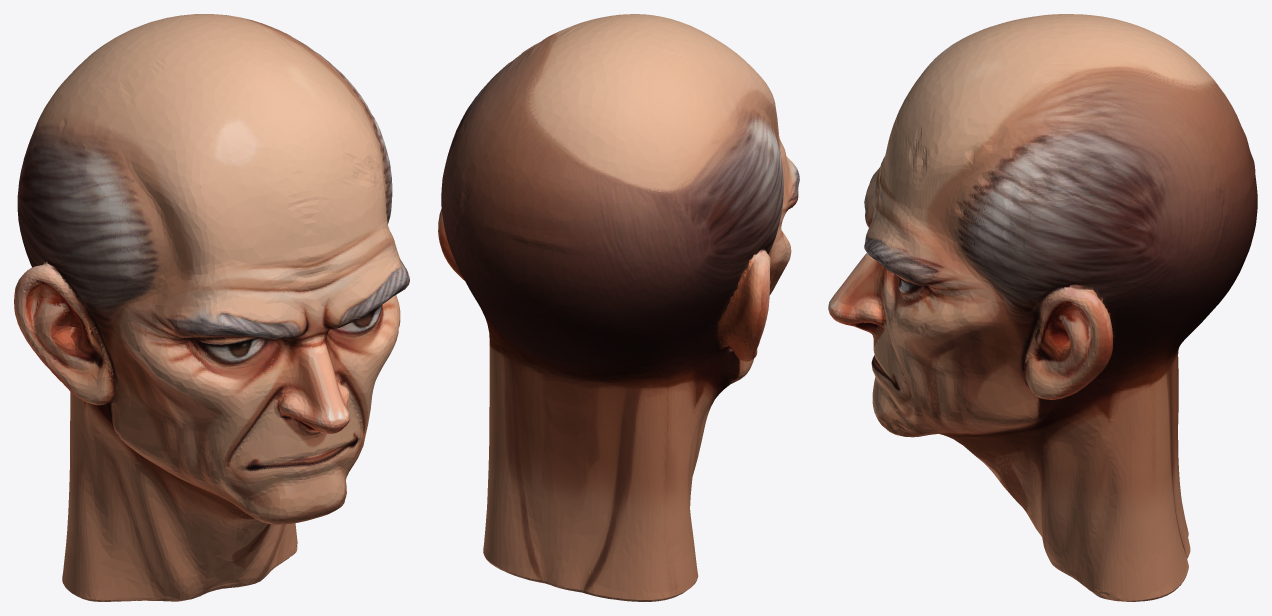
File: side_abbot_repaired_atlas.glb
3 views of the same model, side by side, from view 1: azimuth 30°, elevation 25°; view 2: azimuth 150°, elevation 25°; view 3: azimuth 270°, elevation 25° (orthographic). The views are drawn at different scales.
Visible parts, largest first — view 1: temp_mesh.ply; view 2: temp_mesh.ply; view 3: temp_mesh.ply.
Boxes of the visible parts, box(x1,y1,x2,y2) form: temp_mesh.ply: box(14, 14, 409, 601); temp_mesh.ply: box(438, 14, 799, 601); temp_mesh.ply: box(828, 14, 1257, 601).
Bounding box in the file's own units: 0.8116 × 1.21 × 0.8958.
Materials: 1 (1 with a texture image).
